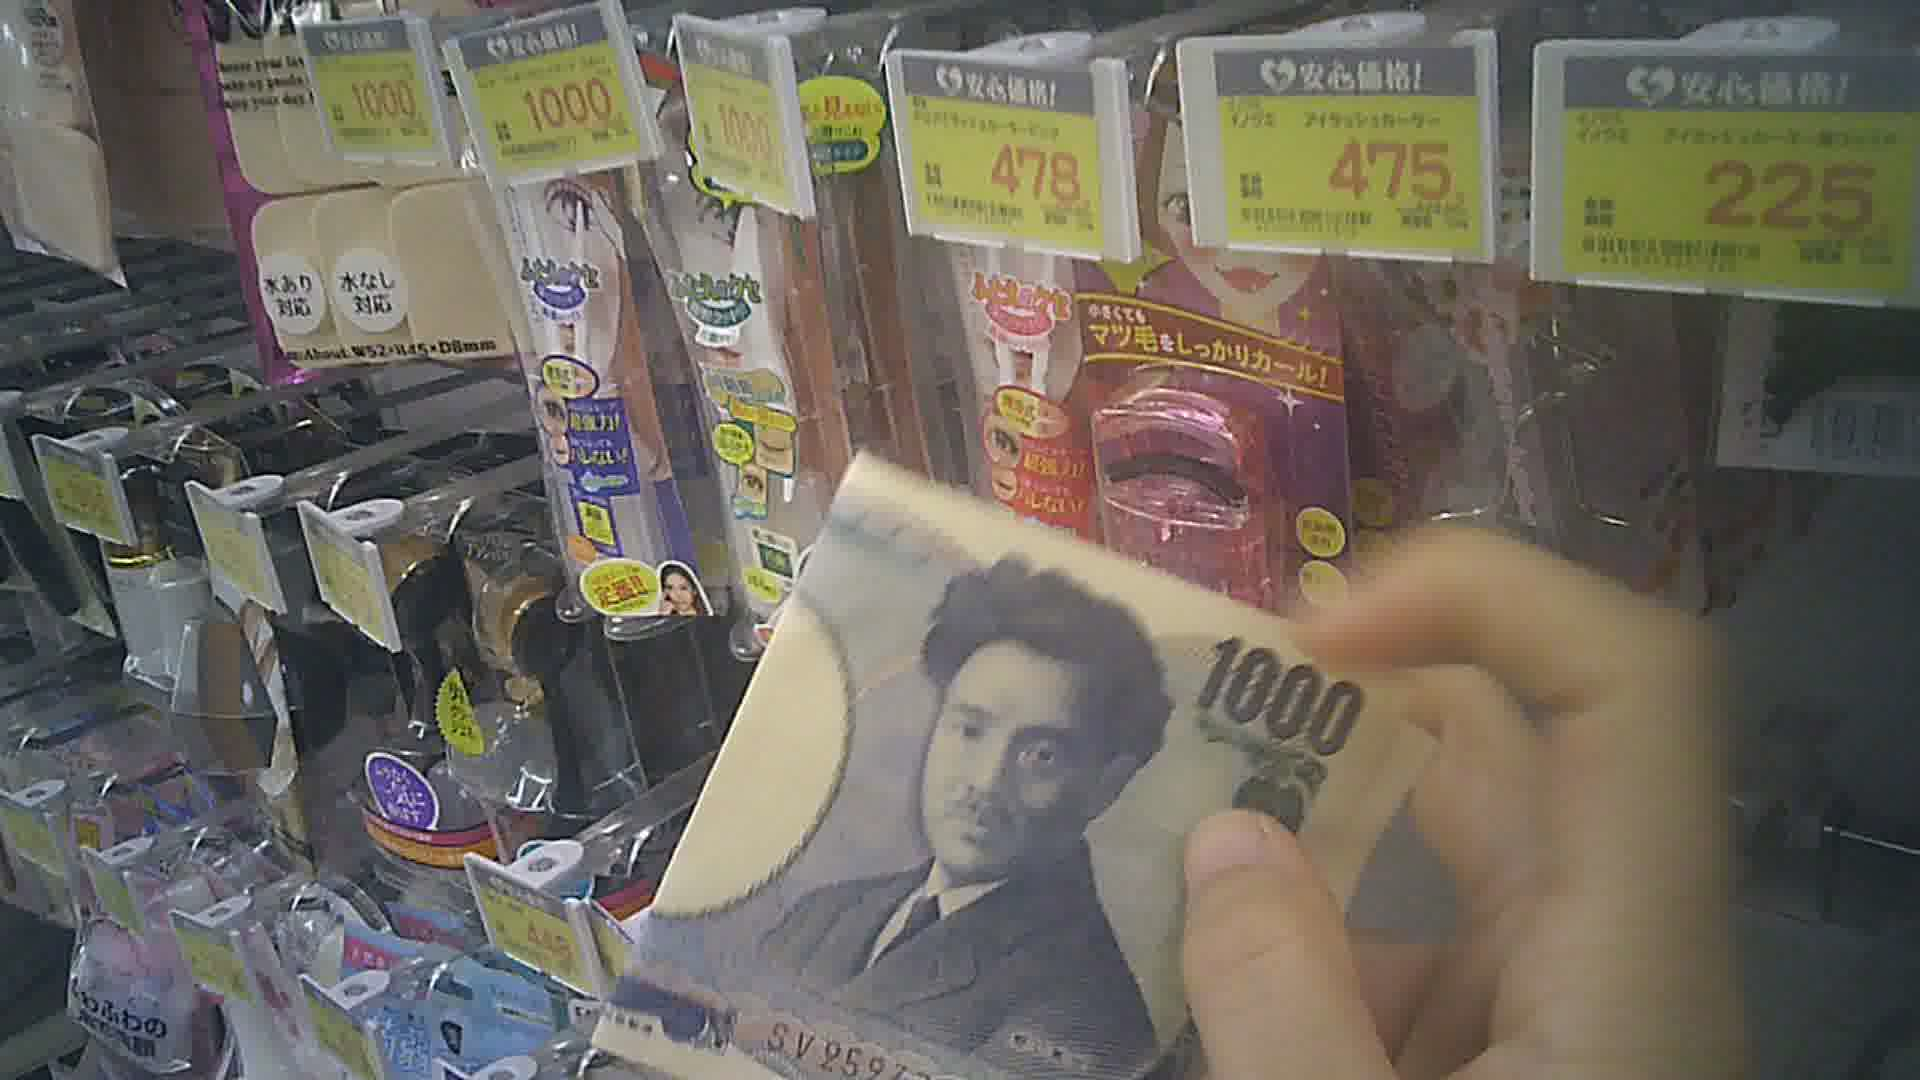1,000 Yen: (585, 427, 1436, 1079)
